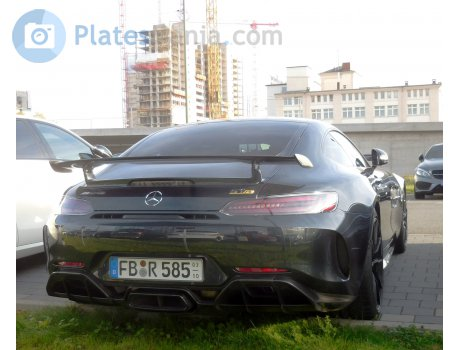License Plates: (117, 258, 199, 279)
